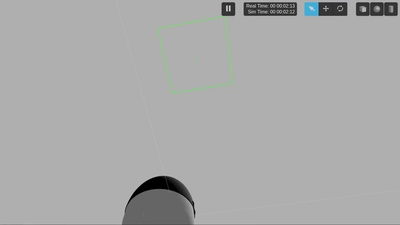mira_robot: (120, 175, 196, 225)
